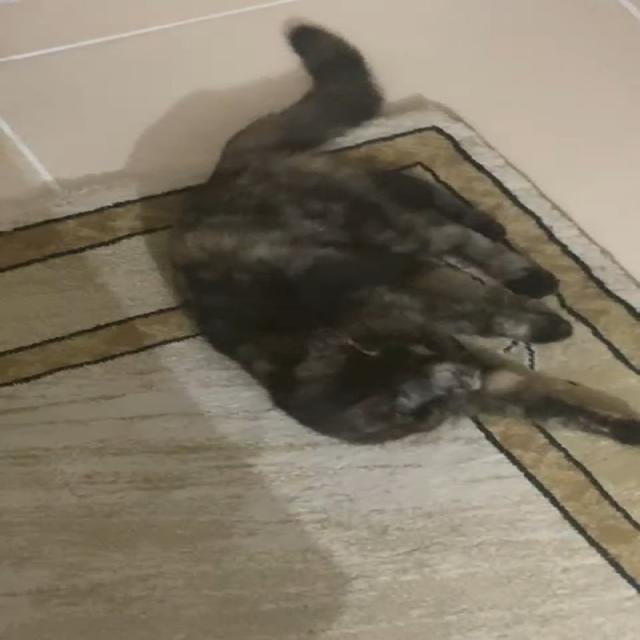authorized: (164, 16, 639, 448)
